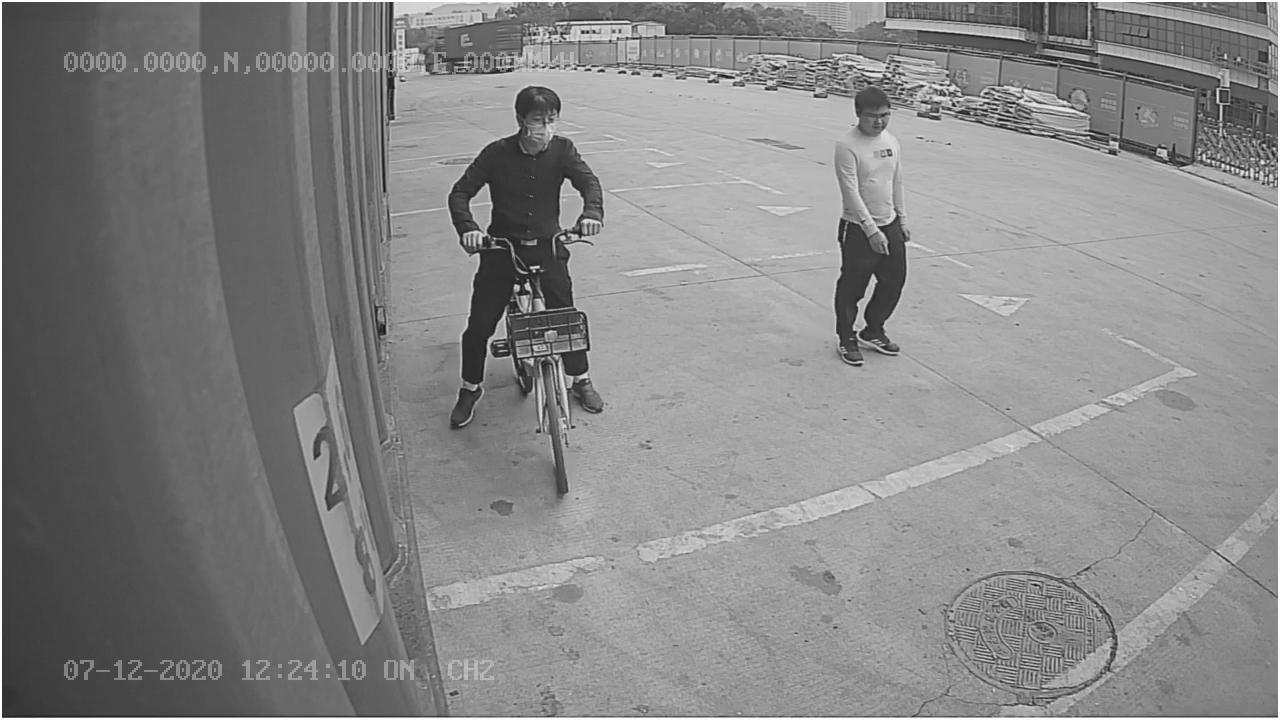person: (827, 82, 916, 371)
